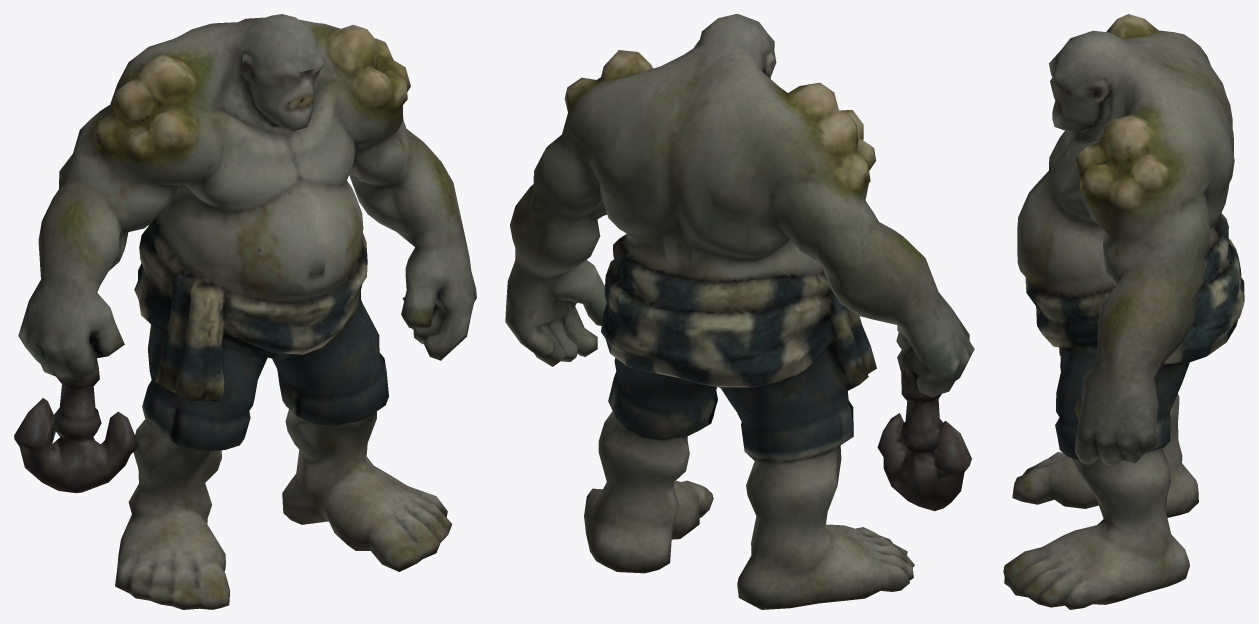
Rendered from wrack_drowned_v2.glb.
3 views of the same model, side by side, from view 1: azimuth 30°, elevation 25°; view 2: azimuth 150°, elevation 25°; view 3: azimuth 270°, elevation 25° (orthographic). The views are drawn at different scales.
Visible parts, largest first — view 1: wrack-drowned-m0-4000-v2a; view 2: wrack-drowned-m0-4000-v2a; view 3: wrack-drowned-m0-4000-v2a.
Part boxes in pixels (<box>): wrack-drowned-m0-4000-v2a: <box>14,14,476,609</box>; wrack-drowned-m0-4000-v2a: <box>505,14,974,609</box>; wrack-drowned-m0-4000-v2a: <box>1003,14,1244,609</box>.
Size of the model in its own units: 0.8898 by 1 by 0.4282.
Materials: 1 (1 with a texture image).
